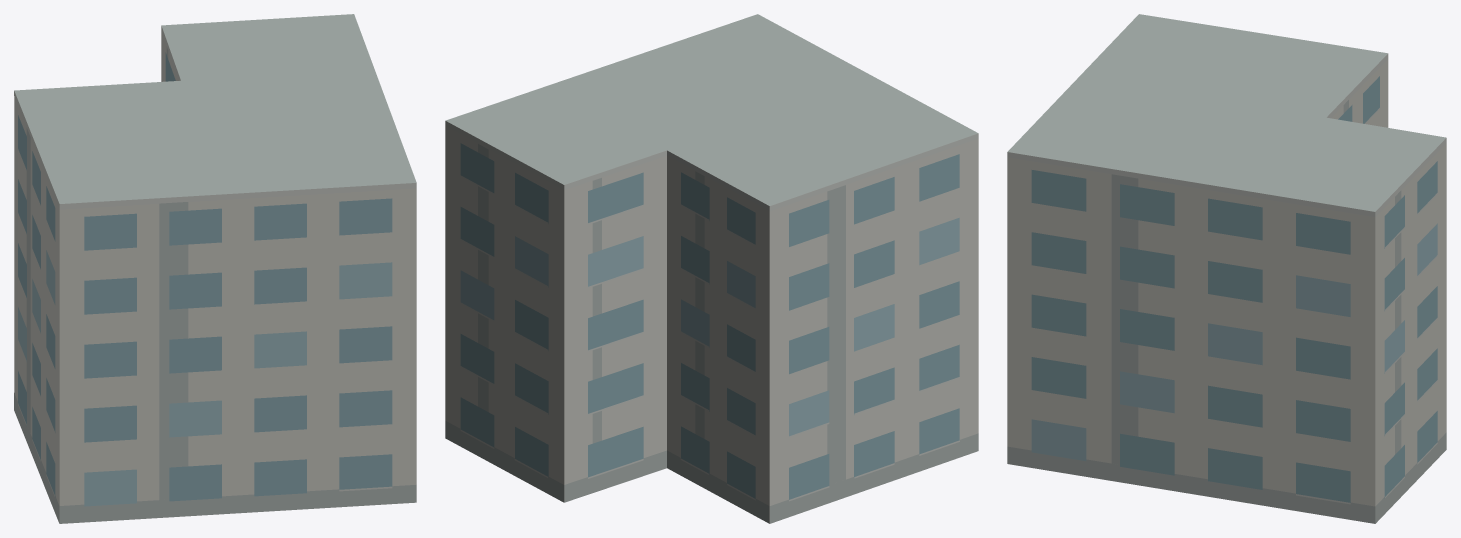
Rendered from survey-upis-32538471.glb.
The picture shows the model from 3 angles, left to right: view 1: azimuth 30°, elevation 25°; view 2: azimuth 150°, elevation 25°; view 3: azimuth 270°, elevation 25°; orthographic projection. The views are drawn at different scales.
Parts seen in each view (by area): view 1: survey-upis-32538471.tmp; view 2: survey-upis-32538471.tmp; view 3: survey-upis-32538471.tmp.
Part boxes in pixels (bbox=[...]): survey-upis-32538471.tmp: bbox=[14, 14, 416, 523]; survey-upis-32538471.tmp: bbox=[445, 14, 978, 523]; survey-upis-32538471.tmp: bbox=[1007, 14, 1446, 523].
Size of the model in its own units: 19.67 by 14.45 by 18.45.
